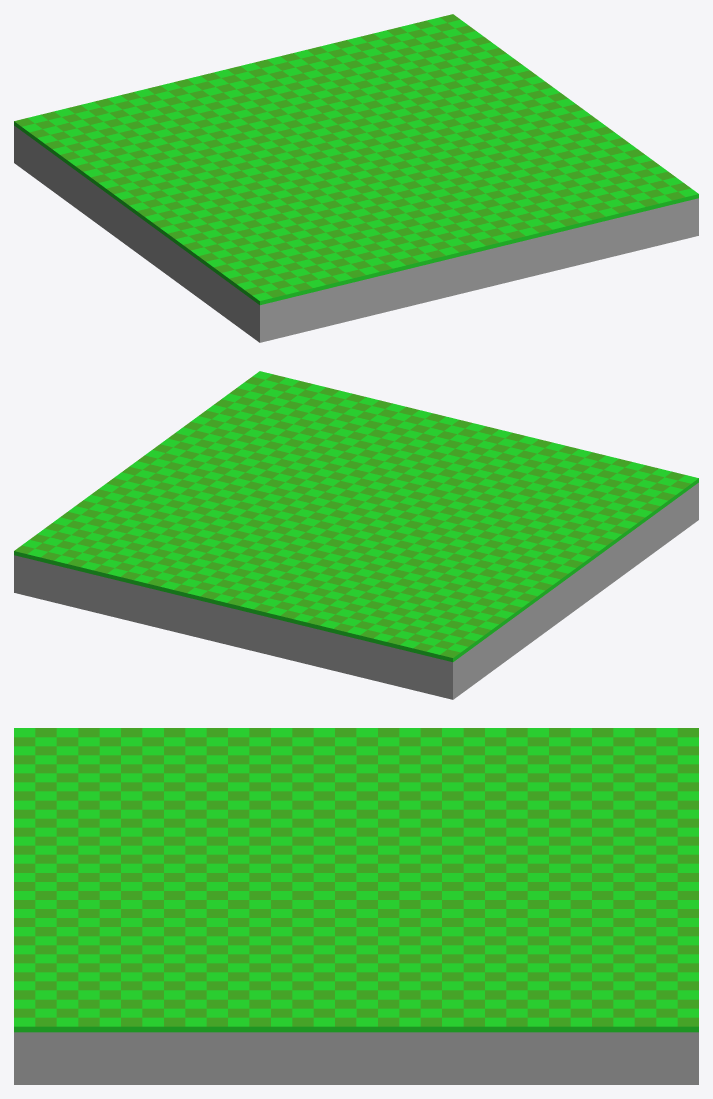
Rendered from Global Map 2.fbx.
3 views of the same model, one above another, from view 1: azimuth 30°, elevation 25°; view 2: azimuth 150°, elevation 25°; view 3: azimuth 270°, elevation 25° (orthographic). The views are drawn at different scales.
Visible parts, largest first — view 1: Plane.013; view 2: Plane.013; view 3: Plane.013.
Part boxes in pixels (x1=…): Plane.013: x1=14, y1=14, x2=698, y2=342; Plane.013: x1=14, y1=371, x2=698, y2=699; Plane.013: x1=14, y1=728, x2=698, y2=1084.
Bounding box in the file's own units: 330 × 30 × 320.
